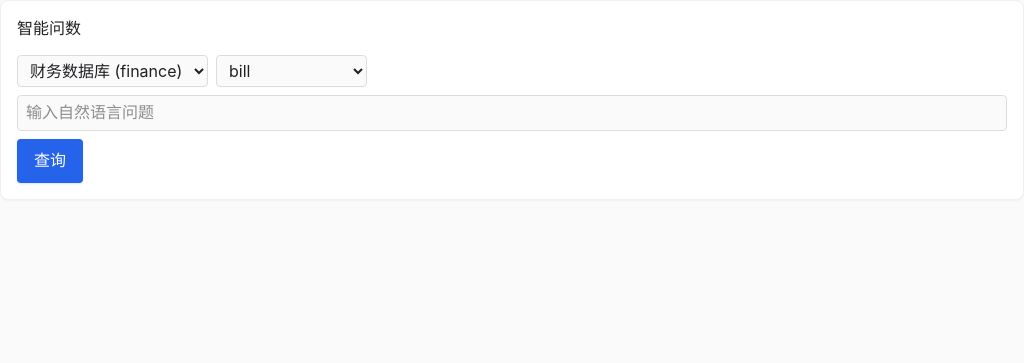
Scenario: QueryPanel.vue (REQ-052 Task 6 + REQ-054 Task 8 + review fix + BUG-015) › renders success summary + result count on ok response
The width and height of the screenshot is (1024, 363).
Step 1. Type "测试问题" into the field with placeholder "输入自然语言问题" → {"x": 512, "y": 113}, box [17,95,1007,131]
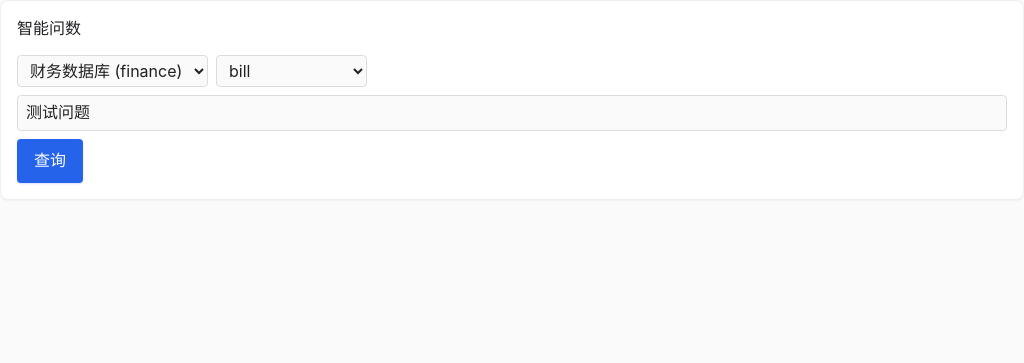
Step 2. Submit the form, box [17,55,1007,183]
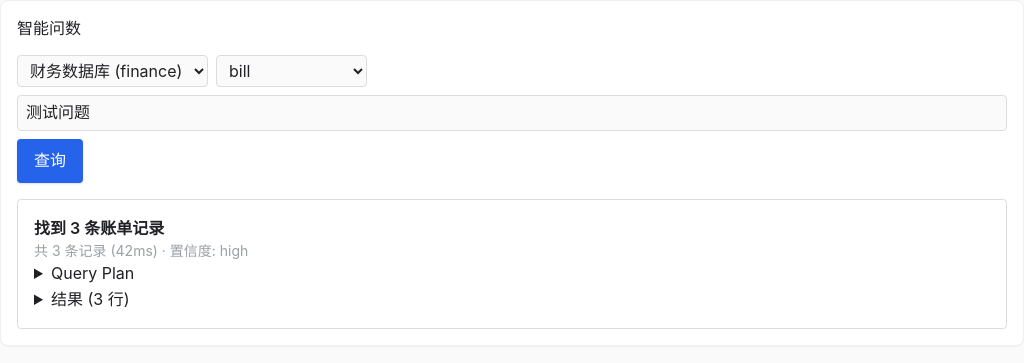
Expected: the text "找到 3 条账单记录" is shown, [34,218,164,238]
Expected: the text "共 3 条记录" is shown, [34,242,248,259]
